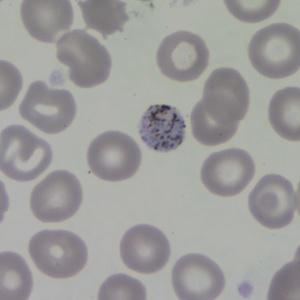Infected: (141, 104, 187, 151)
Uninfected: (19, 77, 77, 135), (56, 32, 113, 90), (0, 123, 53, 183), (27, 228, 88, 278), (249, 21, 300, 79), (31, 169, 84, 224), (88, 130, 144, 181), (156, 30, 209, 81), (201, 148, 253, 198), (249, 174, 295, 229), (121, 224, 172, 272), (173, 252, 224, 299), (191, 97, 239, 146), (21, 0, 74, 43), (207, 68, 248, 121), (269, 87, 300, 142), (0, 251, 31, 300)
